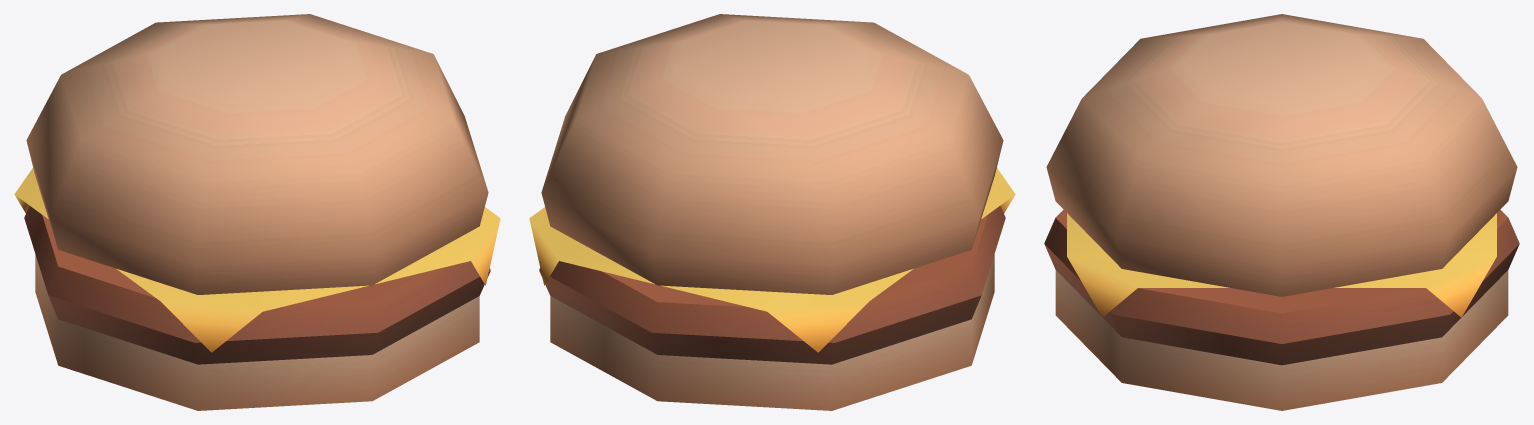
The model's file is burger-cheese.glb.
3 views of the same model, side by side, from view 1: azimuth 30°, elevation 25°; view 2: azimuth 150°, elevation 25°; view 3: azimuth 270°, elevation 25° (orthographic).
Visible parts, largest first — view 1: bun-top, patty, bun-bottom, cheese; view 2: bun-top, patty, bun-bottom, cheese; view 3: bun-top, patty, bun-bottom, cheese.
Boxes of the visible parts, x1,y1,x2,y2 form: bun-top: (26,14,488,294); patty: (24,206,490,364); bun-bottom: (35,254,479,410); cheese: (14,168,500,352); bun-top: (541,14,1003,294); patty: (539,206,1005,364); bun-bottom: (550,254,994,410); cheese: (529,168,1015,352); bun-top: (1046,14,1517,296); patty: (1044,209,1519,365); bun-bottom: (1055,270,1508,410); cheese: (1067,213,1496,317).
Bounding box in the file's own units: 0.378 × 0.22 × 0.378.
1 material, 1 textured.
